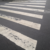zebra: (1, 1, 46, 48)
